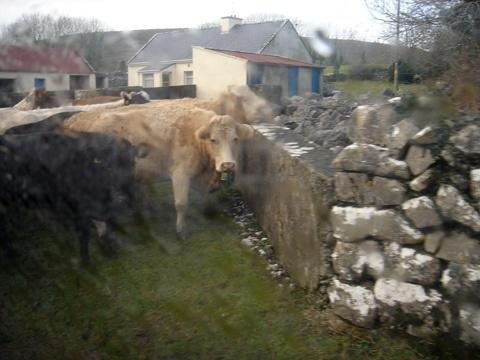cow: (60, 105, 253, 241), (2, 128, 151, 270)
